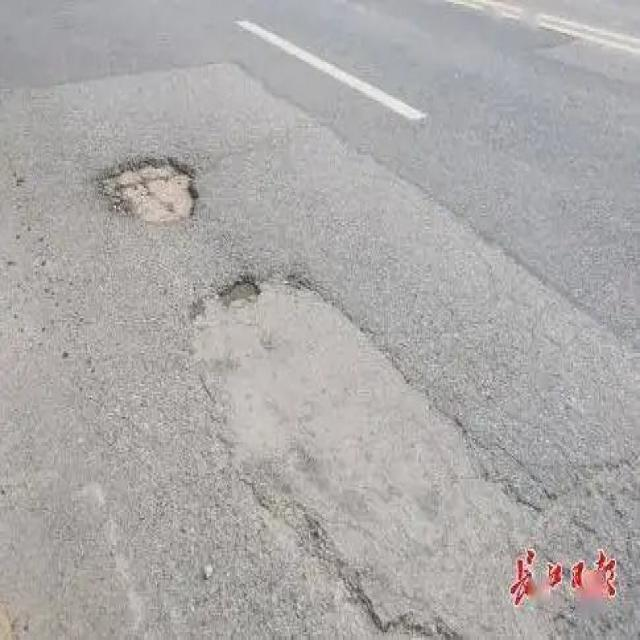Buraco: (90, 153, 204, 230)
